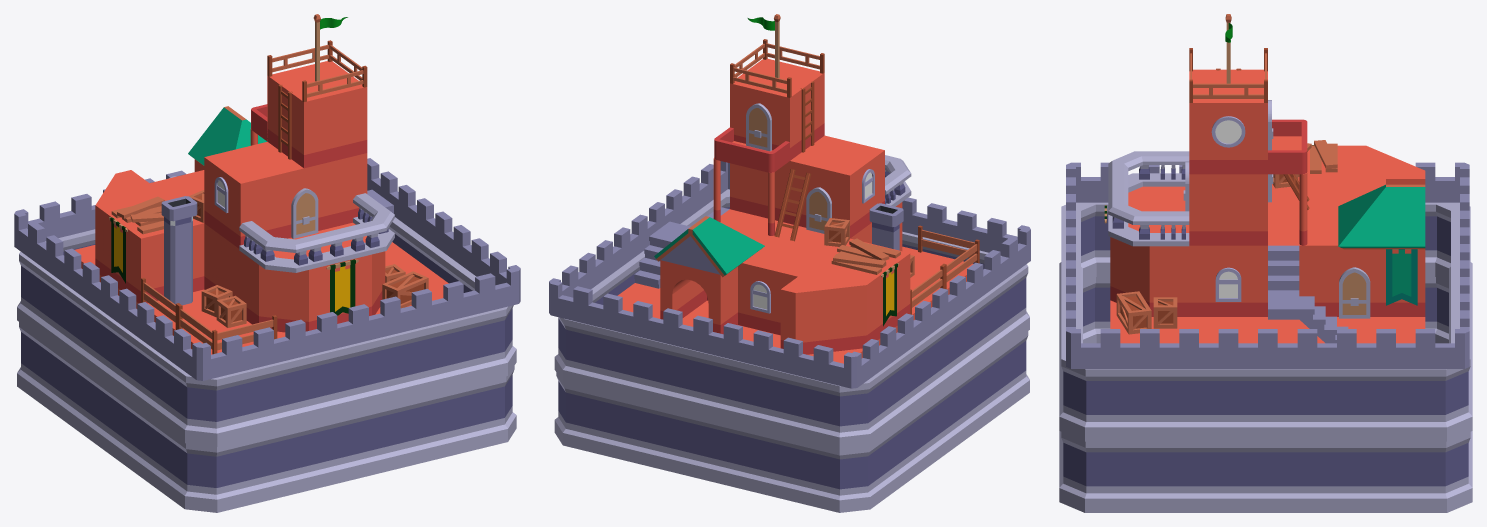
File: Castle.fbx
3 renders of one model, left to right at view 1: azimuth 30°, elevation 25°; view 2: azimuth 150°, elevation 25°; view 3: azimuth 270°, elevation 25°, orthographic. The views are drawn at different scales.
Visible parts, largest first — view 1: mergedBlocks; view 2: mergedBlocks; view 3: mergedBlocks.
Boxes of the visible parts, x1=… form: mergedBlocks: x1=14, y1=14, x2=520, y2=512; mergedBlocks: x1=549, y1=14, x2=1030, y2=512; mergedBlocks: x1=1059, y1=14, x2=1472, y2=512.
Size of the model in its own units: 52.5 by 60 by 52.5.
